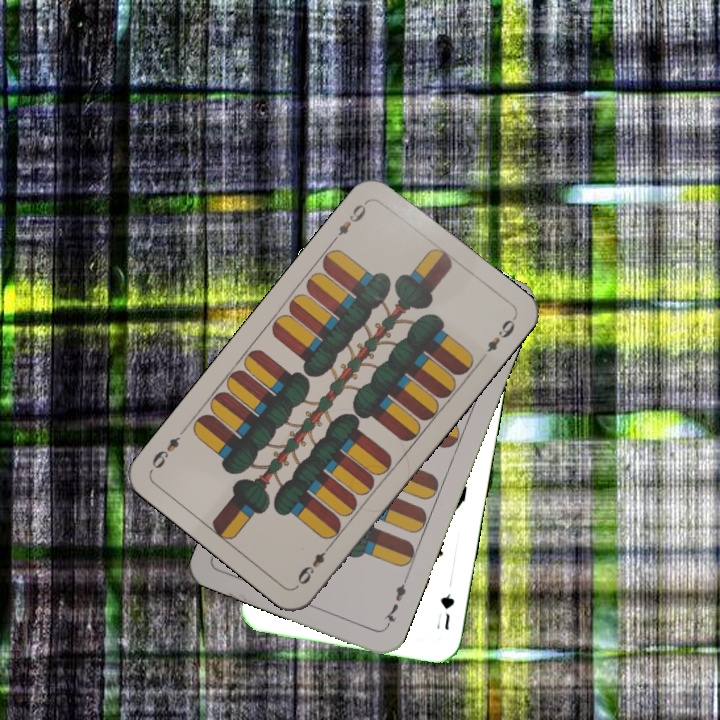E7: (379, 574, 410, 631)
E9: (292, 539, 335, 590), (328, 196, 371, 245)
GU: (436, 590, 457, 632)
